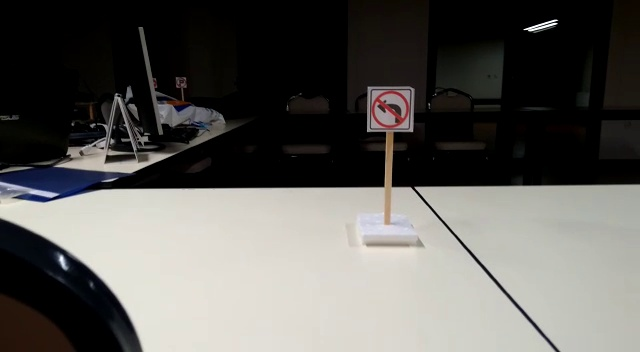sola_donulmez: (362, 88, 410, 132)
